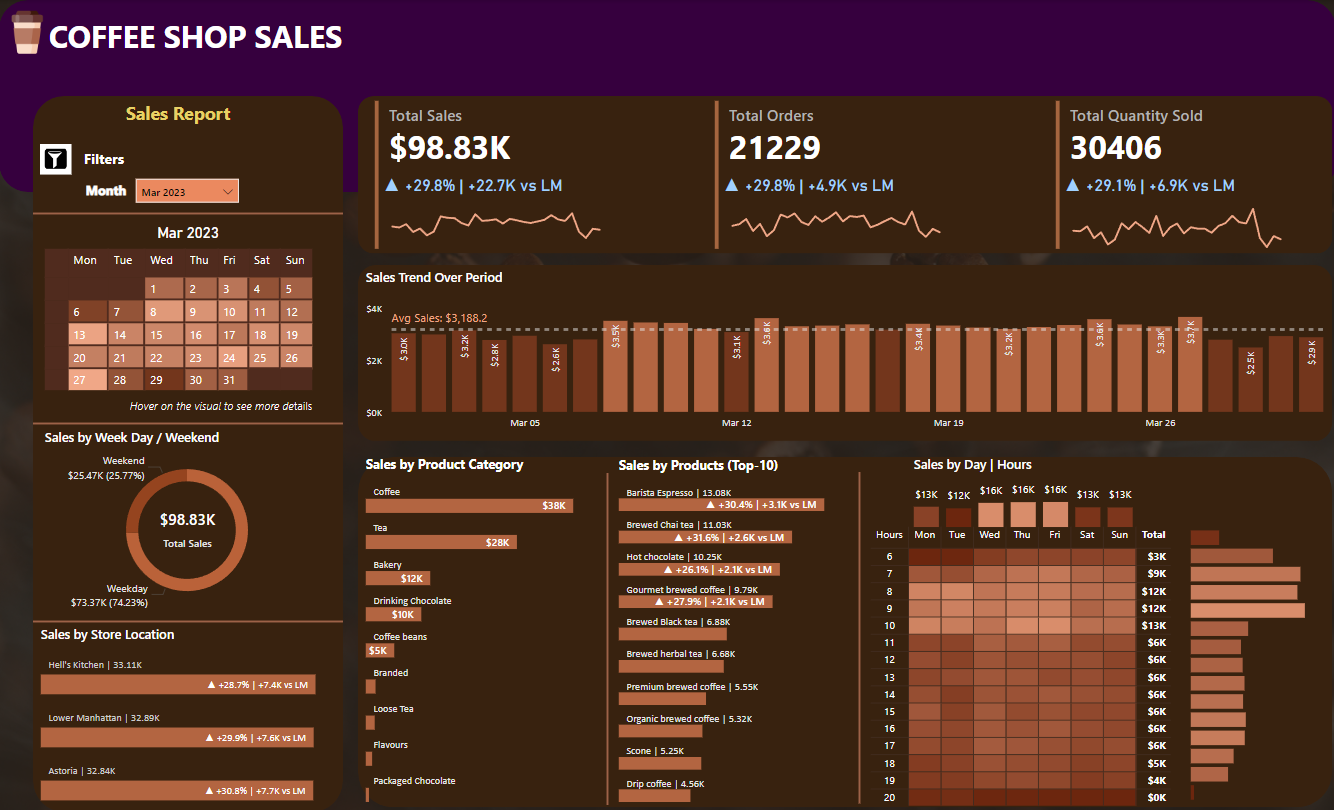

What the dashboard file says about the page in this screenshot:
{"tool":"powerbi","page":{"name":"Main Page","canvas":[1400,850],"ordinal":0},"visuals":[{"type":"shape","box":[0.4,0,1399.6,201],"z":0},{"type":"shape","box":[35.6,100.5,324.5,749.5],"z":1000},{"type":"shape","box":[375.8,100.5,1020,165],"z":2000},{"type":"textbox","box":[47.1,10.5,332.9,56.5],"z":3000},{"type":"cardVisual","fields":{"Data":["_Measures.Total Sales"]},"box":[388.4,100.5,255.4,165.4],"z":4000,"group":"g1"},{"type":"cardVisual","fields":{"Data":["_Measures.Total Orders"]},"box":[744.5,100.5,255.4,165.4],"z":4000,"group":"g2"},{"type":"cardVisual","fields":{"Data":["_Measures.Total Quantity Sold"]},"box":[1100.8,100.5,255.4,165.4],"z":4000,"group":"g3"},{"type":"slicer","fields":{"Values":["Date Table.Month Year"]},"box":[138.1,182.2,117.7,39.6],"z":4000},{"type":"group","id":"g1","title":"Group 1","box":[388.4,100.5,255.4,165.4],"z":5000},{"type":"group","id":"g2","title":"Group 1","box":[744.5,100.5,255.5,166],"z":6000},{"type":"lineChart","fields":{"Category":["Date Table.Date.Variation.Date Hierarchy.Year","Date Table.Date.Variation.Date Hierarchy.Quarter","Date Table.Date.Variation.Date Hierarchy.Month","Date Table.Date.Variation.Date Hierarchy.Day"],"Y":["_Measures.Total Sales"]},"box":[396.8,183.2,247,82.7],"z":6000,"group":"g1"},{"type":"lineChart","fields":{"Category":["Date Table.Date.Variation.Date Hierarchy.Year","Date Table.Date.Variation.Date Hierarchy.Quarter","Date Table.Date.Variation.Date Hierarchy.Month","Date Table.Date.Variation.Date Hierarchy.Day"],"Y":["_Measures.Total Orders"]},"box":[752.9,183.2,247,82.7],"z":6000,"group":"g2"},{"type":"lineChart","fields":{"Category":["Date Table.Date.Variation.Date Hierarchy.Year","Date Table.Date.Variation.Date Hierarchy.Quarter","Date Table.Date.Variation.Date Hierarchy.Month","Date Table.Date.Variation.Date Hierarchy.Day"],"Y":["_Measures.Total Quantity Sold"]},"box":[1109.2,183.2,247,82.7],"z":6000,"group":"g3"},{"type":"group","id":"g3","title":"Group 1","box":[1100.8,100.5,255.5,163.8],"z":7000},{"type":"pivotTable","fields":{"Rows":["Date Table.Week Number"],"Columns":["Date Table.Day Name"],"Values":["Min(Date Table.Day Number)"]},"box":[42.9,255.4,295.2,163.3],"z":8000},{"type":"card","fields":{"Values":["Min(Date Table.Month Year)"]},"box":[35.6,228.2,324.5,33.5],"z":9000},{"type":"textbox","box":[131.9,410.3,218.8,29.3],"z":10000},{"type":"shape","box":[35.6,434.4,324.5,17.8],"z":11000},{"type":"shape","box":[35.6,214.6,324.5,17.8],"z":12000},{"type":"donutChart","title":"Sales by Week Day / Weekend","fields":{"Y":["_Measures.Total Sales"],"Category":["Date Table.Week Day / Weekend"]},"box":[42.9,449.1,307.8,194.7],"z":13000},{"type":"card","fields":{"Values":["_Measures.Total Sales"]},"box":[126.7,520.3,141.3,65.9],"z":14000},{"type":"shape","box":[35.6,641.7,324.5,17.8],"z":15000},{"type":"clusteredBarChart","title":"Sales by Store Location","fields":{"Category":["Transactions.store_location"],"Y":["_Measures.Placeholder","_Measures.Total Sales"]},"box":[38.7,655.3,321.4,190.5],"z":16000},{"type":"shape","box":[375.7,277.3,1019.7,184.5],"z":17000},{"type":"shape","box":[375.7,478.7,1019.7,366.7],"z":18000},{"type":"columnChart","title":"Sales Trend Over Period","fields":{"Category":["Transactions.transaction_date"],"Y":["_Measures.Total Sales"]},"box":[379.1,281.8,1016.3,176.6],"z":19000},{"type":"clusteredBarChart","title":"Sales by Product Category","fields":{"Y":["_Measures.Placeholder","_Measures.Total Sales"],"Category":["Transactions.product_category"]},"box":[379.1,477.6,250.1,367.8],"z":20000},{"type":"shape","box":[630.2,495.1,13.6,347.5],"z":21000},{"type":"clusteredBarChart","title":"Sales by Products (Top-10)","fields":{"Y":["_Measures.Placeholder","_Measures.Total Sales"],"Category":["Transactions.product_type"]},"box":[644,478.7,250.1,366.7],"z":22000},{"type":"shape","box":[894.1,494.6,13.6,347.5],"z":23000},{"type":"pivotTable","fields":{"Rows":["Transactions.Hours"],"Columns":["Date Table.Day Name"],"Values":["_Measures.Total Sales"]},"box":[907.7,546.6,370.1,303.3],"z":24000},{"type":"barChart","fields":{"Category":["Transactions.Hours"],"Y":["_Measures.Total Sales"]},"box":[1242.7,542.1,152.8,299.9],"z":24001},{"type":"columnChart","title":"Sales by Day | Hours","fields":{"Y":["_Measures.Total Sales"],"Category":["Date Table.Day Name"]},"box":[953,477.6,239.9,80.4],"z":24002},{"type":"textbox","box":[85.8,185.3,67,29.3],"z":24003},{"type":"textbox","box":[127.7,100.5,127.7,38.7],"z":24004},{"type":"textbox","box":[83.8,150.5,73.6,32.8],"z":24005},{"type":"image","box":[43,150.5,32.8,31.7],"z":24006},{"type":"image","box":[0,6.3,59.7,55.5],"z":24007}]}

Visuals, with their boxes in screenshot pixels (x1, y1, x2, y2), scaled from the page's 1400x850 canvas onto the 1334x810 screenshot:
shape: rect(0, 0, 1333, 192)
shape: rect(34, 96, 343, 809)
shape: rect(358, 96, 1330, 253)
textbox: rect(45, 10, 362, 64)
cardVisual - _Measures.Total Sales: rect(370, 96, 613, 253)
cardVisual - _Measures.Total Orders: rect(709, 96, 953, 253)
cardVisual - _Measures.Total Quantity Sold: rect(1049, 96, 1292, 253)
slicer - Date Table.Month Year: rect(132, 174, 244, 211)
"Group 1" group: rect(370, 96, 613, 253)
"Group 1" group: rect(709, 96, 953, 254)
lineChart - Date Table.Date.Variation.Date Hierarchy.Year x Date Table.Date.Variation.Date Hierarchy.Quarter: rect(378, 175, 613, 253)
lineChart - Date Table.Date.Variation.Date Hierarchy.Year x Date Table.Date.Variation.Date Hierarchy.Quarter: rect(717, 175, 953, 253)
lineChart - Date Table.Date.Variation.Date Hierarchy.Year x Date Table.Date.Variation.Date Hierarchy.Quarter: rect(1057, 175, 1292, 253)
"Group 1" group: rect(1049, 96, 1292, 252)
pivotTable - Date Table.Week Number x Date Table.Day Name: rect(41, 243, 322, 399)
card - Min(Date Table.Month Year): rect(34, 217, 343, 249)
textbox: rect(126, 391, 334, 419)
shape: rect(34, 414, 343, 431)
shape: rect(34, 205, 343, 221)
"Sales by Week Day / Weekend" donutChart: rect(41, 428, 334, 614)
card - _Measures.Total Sales: rect(121, 496, 255, 559)
shape: rect(34, 612, 343, 628)
"Sales by Store Location" clusteredBarChart: rect(37, 624, 343, 806)
shape: rect(358, 264, 1330, 440)
shape: rect(358, 456, 1330, 806)
"Sales Trend Over Period" columnChart: rect(361, 269, 1330, 437)
"Sales by Product Category" clusteredBarChart: rect(361, 455, 600, 806)
shape: rect(600, 472, 613, 803)
"Sales by Products (Top-10)" clusteredBarChart: rect(614, 456, 852, 806)
shape: rect(852, 471, 865, 802)
pivotTable - Transactions.Hours x Date Table.Day Name: rect(865, 521, 1218, 809)
barChart - Transactions.Hours x _Measures.Total Sales: rect(1184, 517, 1330, 802)
"Sales by Day | Hours" columnChart: rect(908, 455, 1137, 532)
textbox: rect(82, 177, 146, 205)
textbox: rect(122, 96, 243, 133)
textbox: rect(80, 143, 150, 175)
image: rect(41, 143, 72, 174)
image: rect(0, 6, 57, 59)
